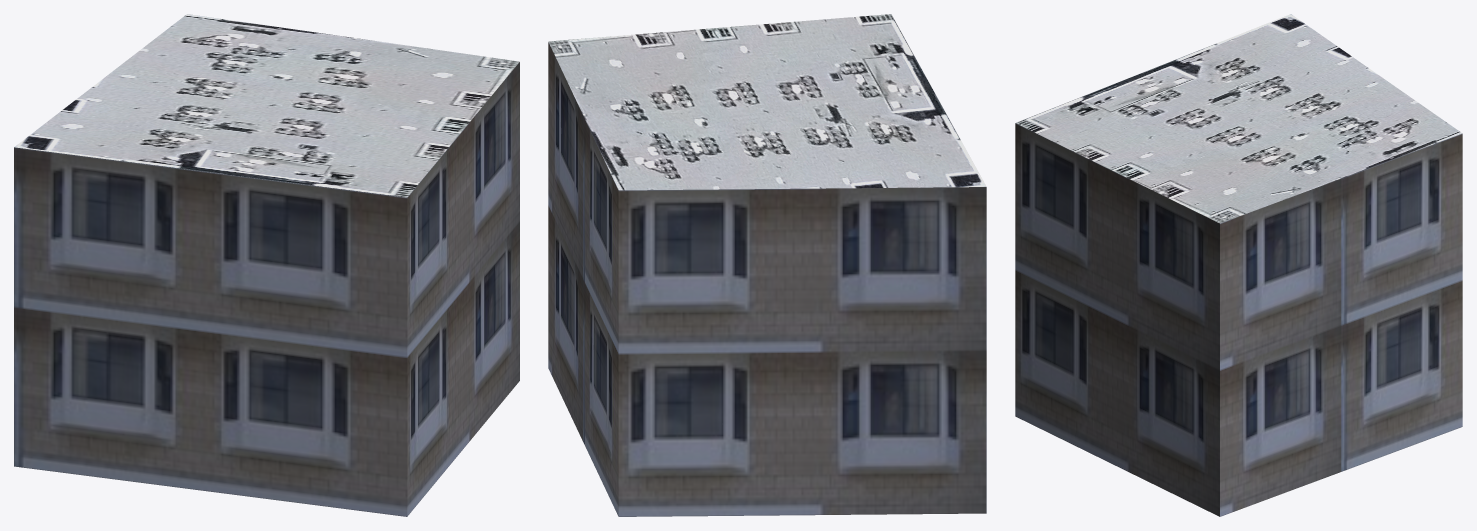
The model's file is ResTex__3567.fbx.
The picture shows the model from 3 angles, left to right: view 1: azimuth 30°, elevation 25°; view 2: azimuth 150°, elevation 25°; view 3: azimuth 270°, elevation 25°; orthographic projection. The views are drawn at different scales.
Parts seen in each view (by area): view 1: CityEngineMaterial_3_m, CityEngineMaterial_m; view 2: CityEngineMaterial_3_m, CityEngineMaterial_m; view 3: CityEngineMaterial_3_m, CityEngineMaterial_m.
Boxes of the visible parts, <box> form: CityEngineMaterial_3_m: <box>14,62,519,516</box>; CityEngineMaterial_m: <box>14,14,519,197</box>; CityEngineMaterial_3_m: <box>548,42,986,516</box>; CityEngineMaterial_m: <box>548,14,986,190</box>; CityEngineMaterial_3_m: <box>1015,123,1462,516</box>; CityEngineMaterial_m: <box>1016,14,1462,223</box>.
Bounding box in the file's own units: 9.19 × 6 × 8.29.
Materials: 2 (2 with a texture image).
